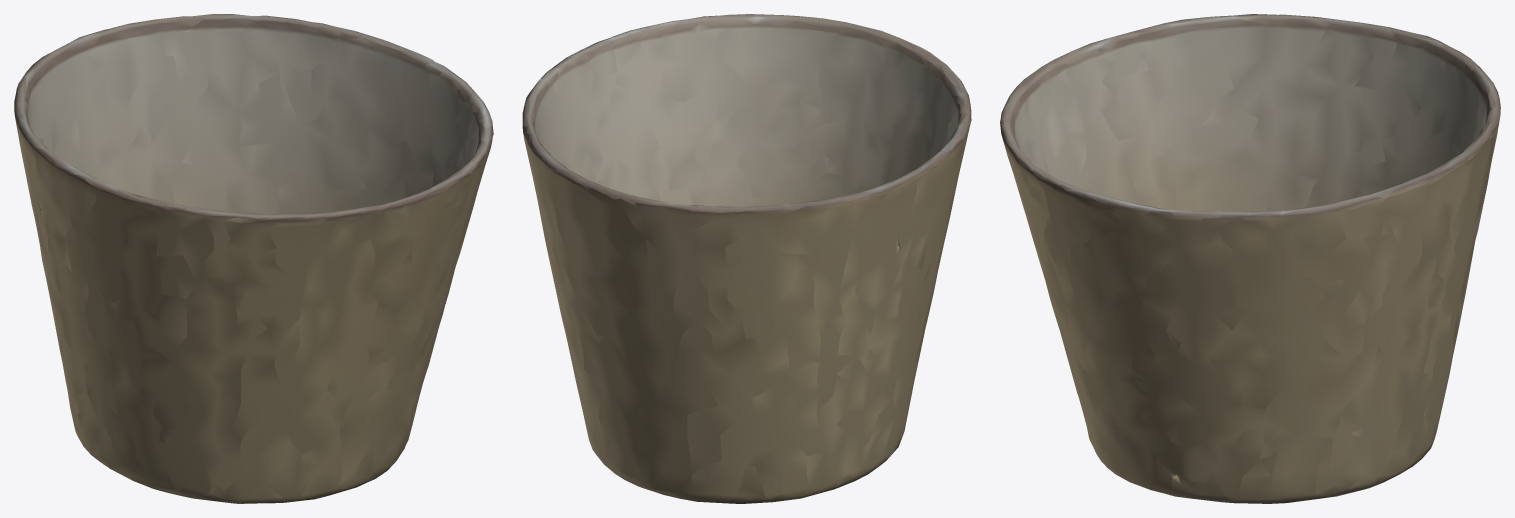
Rendered from 0015_mask_016_glass_of_dark_liquid.glb.
3 renders of one model, left to right at view 1: azimuth 30°, elevation 25°; view 2: azimuth 150°, elevation 25°; view 3: azimuth 270°, elevation 25°, orthographic. The views are drawn at different scales.
Visible parts, largest first — view 1: mask_016_object; view 2: mask_016_object; view 3: mask_016_object.
Boxes of the visible parts, box(x1,y1,x2,y2) form: mask_016_object: box(14, 14, 493, 503); mask_016_object: box(522, 14, 971, 503); mask_016_object: box(1000, 14, 1500, 503).
Size of the model in its own units: 0.177 by 0.1403 by 0.1902.
